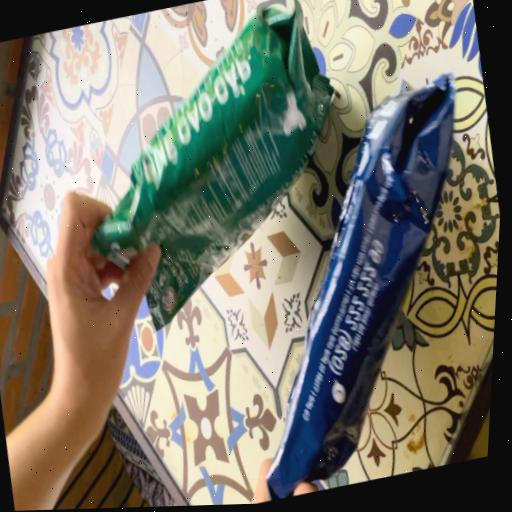cafe_hat: (267, 73, 454, 500)
cafe_xay: (92, 0, 333, 326)
